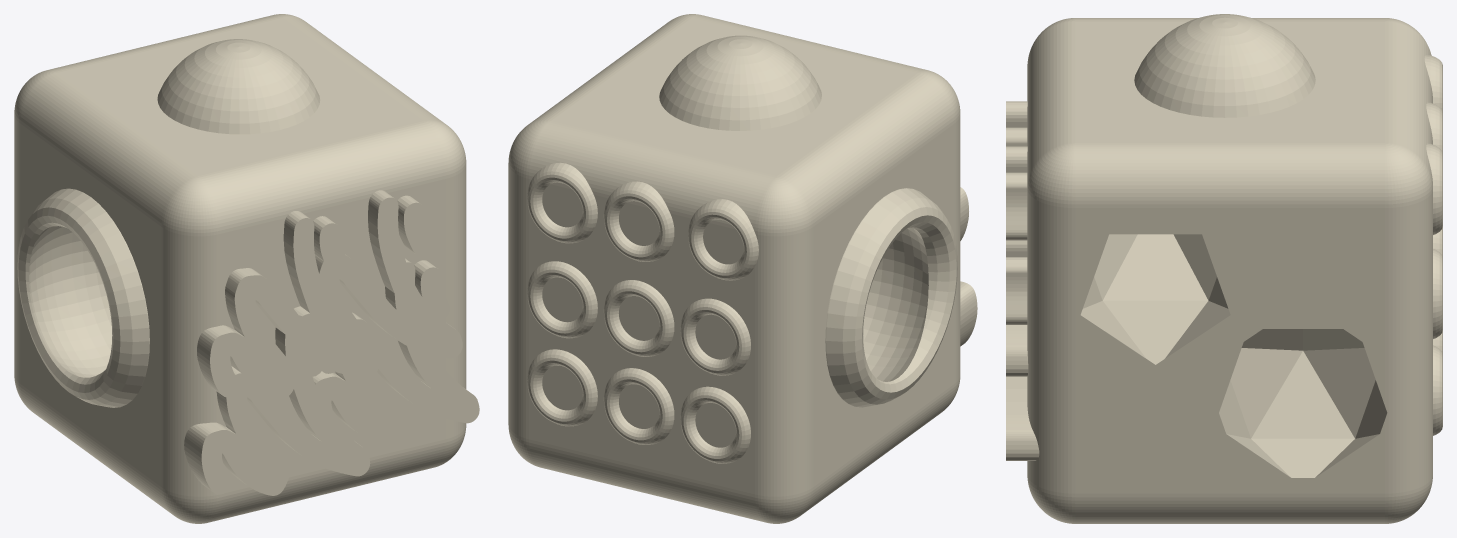
The model's file is Monday lyla rose quartz.glb.
The picture shows the model from 3 angles, left to right: view 1: azimuth 30°, elevation 25°; view 2: azimuth 150°, elevation 25°; view 3: azimuth 270°, elevation 25°; orthographic projection. The views are drawn at different scales.
Parts seen in each view (by area): view 1: Mesh_Mesh_head_geo.001_lambert2SG.001; view 2: Mesh_Mesh_head_geo.001_lambert2SG.001; view 3: Mesh_Mesh_head_geo.001_lambert2SG.001.
Boxes of the visible parts, left/top/right/bottom form: Mesh_Mesh_head_geo.001_lambert2SG.001: left=14, top=14, right=479, bottom=523; Mesh_Mesh_head_geo.001_lambert2SG.001: left=508, top=14, right=977, bottom=523; Mesh_Mesh_head_geo.001_lambert2SG.001: left=1006, top=14, right=1442, bottom=523.
Bounding box in the file's own units: 0.0385 × 0.045 × 0.041.
